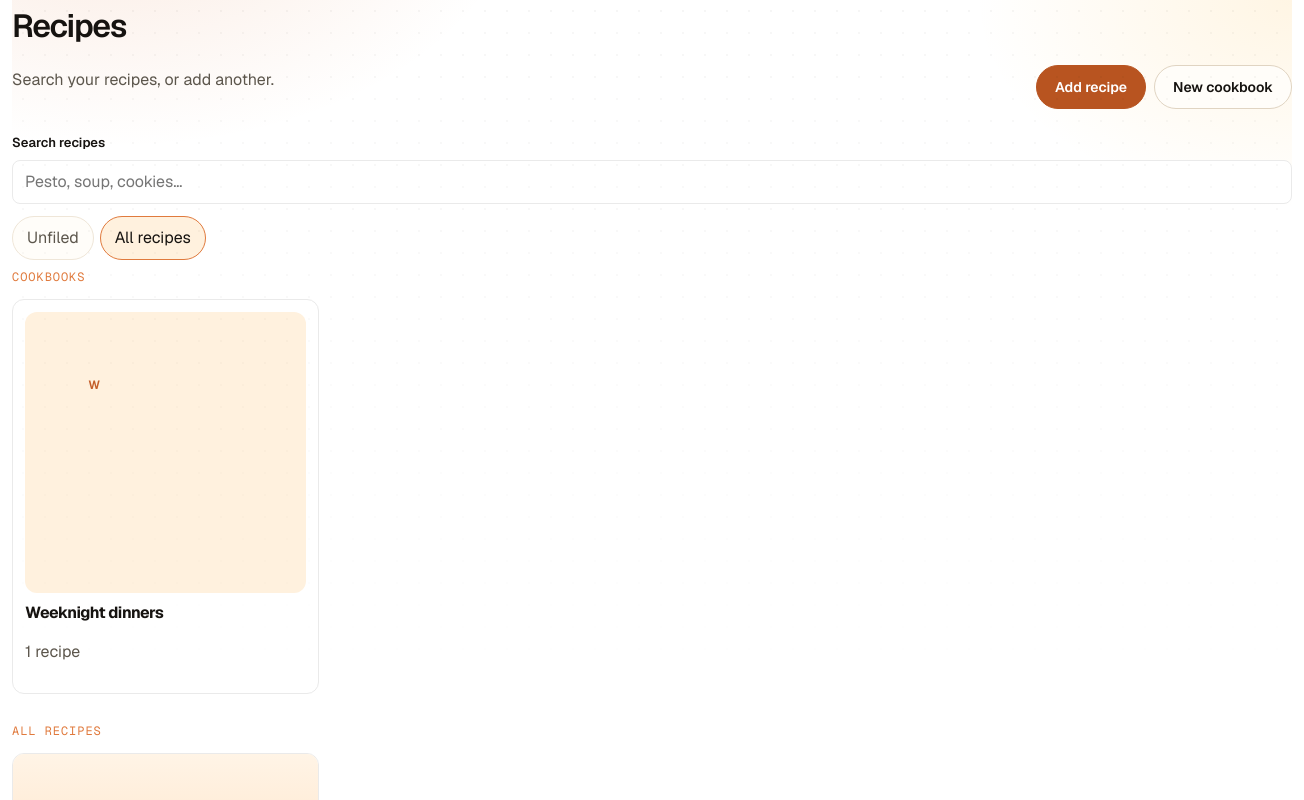
RecipesKitchen add recipe › keeps import methods off the list until Add recipe is pressed
Expected: the heading "Import a recipe" is not shown
Expected: the text "Save from Safari on iPhone" is not shown
Click the button "Add recipe".
click(1091, 87)  # box [1036,65,1146,109]
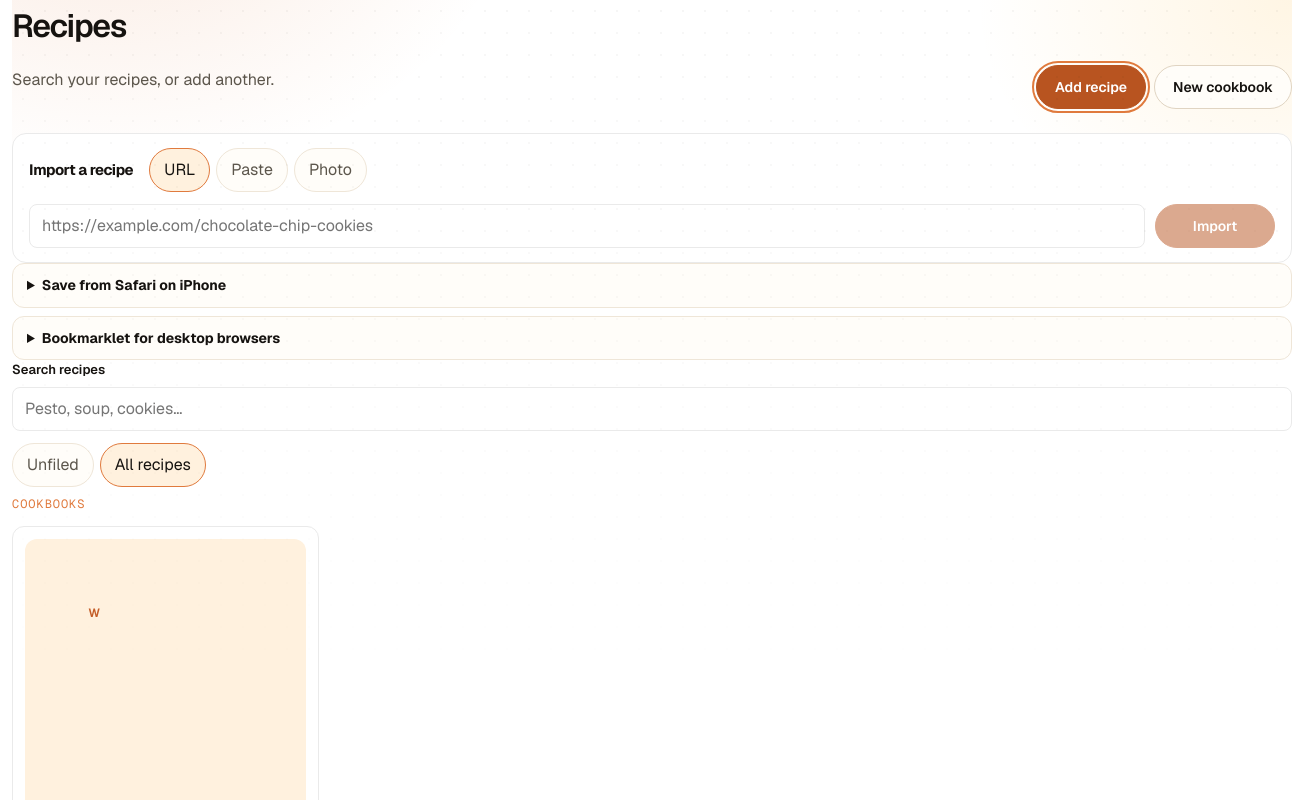
Expected: the heading "Import a recipe" is shown, [29,158,133,182]
Expected: the tab "URL" is shown, [149,148,210,192]
Expected: the tab "Paste" is shown, [216,148,288,192]
